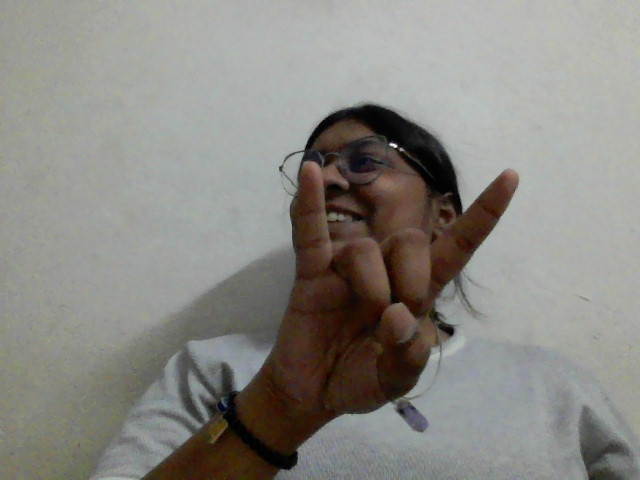I love you: (226, 154, 530, 434)
